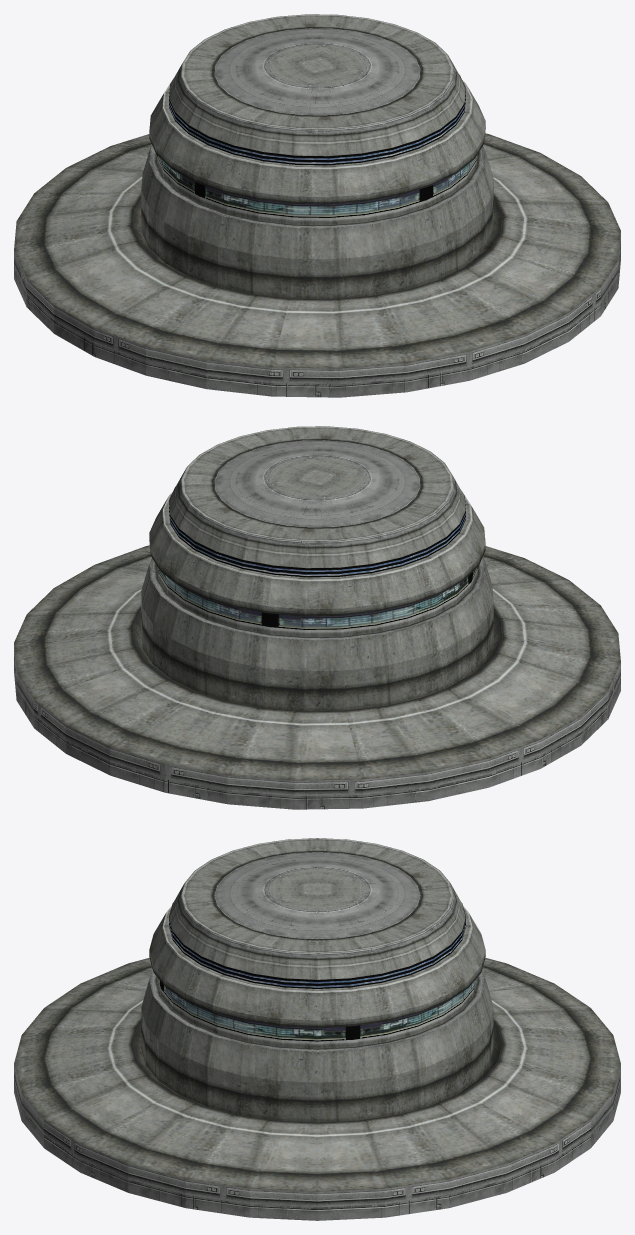
Rendered from eaw_bespinBuilding3.glb.
3 views of the same model, one above another, from view 1: azimuth 30°, elevation 25°; view 2: azimuth 150°, elevation 25°; view 3: azimuth 270°, elevation 25° (orthographic).
Parts seen in each view (by area): view 1: polymsh8_1, polymsh8_0; view 2: polymsh8_1, polymsh8_0; view 3: polymsh8_1, polymsh8_0.
Part boxes in pixels (<box>): polymsh8_1: <box>14,14,620,397</box>; polymsh8_0: <box>157,75,476,217</box>; polymsh8_1: <box>14,426,620,809</box>; polymsh8_0: <box>158,487,477,629</box>; polymsh8_1: <box>14,838,620,1220</box>; polymsh8_0: <box>158,903,476,1041</box>.
Size of the model in its own units: 94.07 by 42.97 by 94.07.
2 materials, 2 textured.
